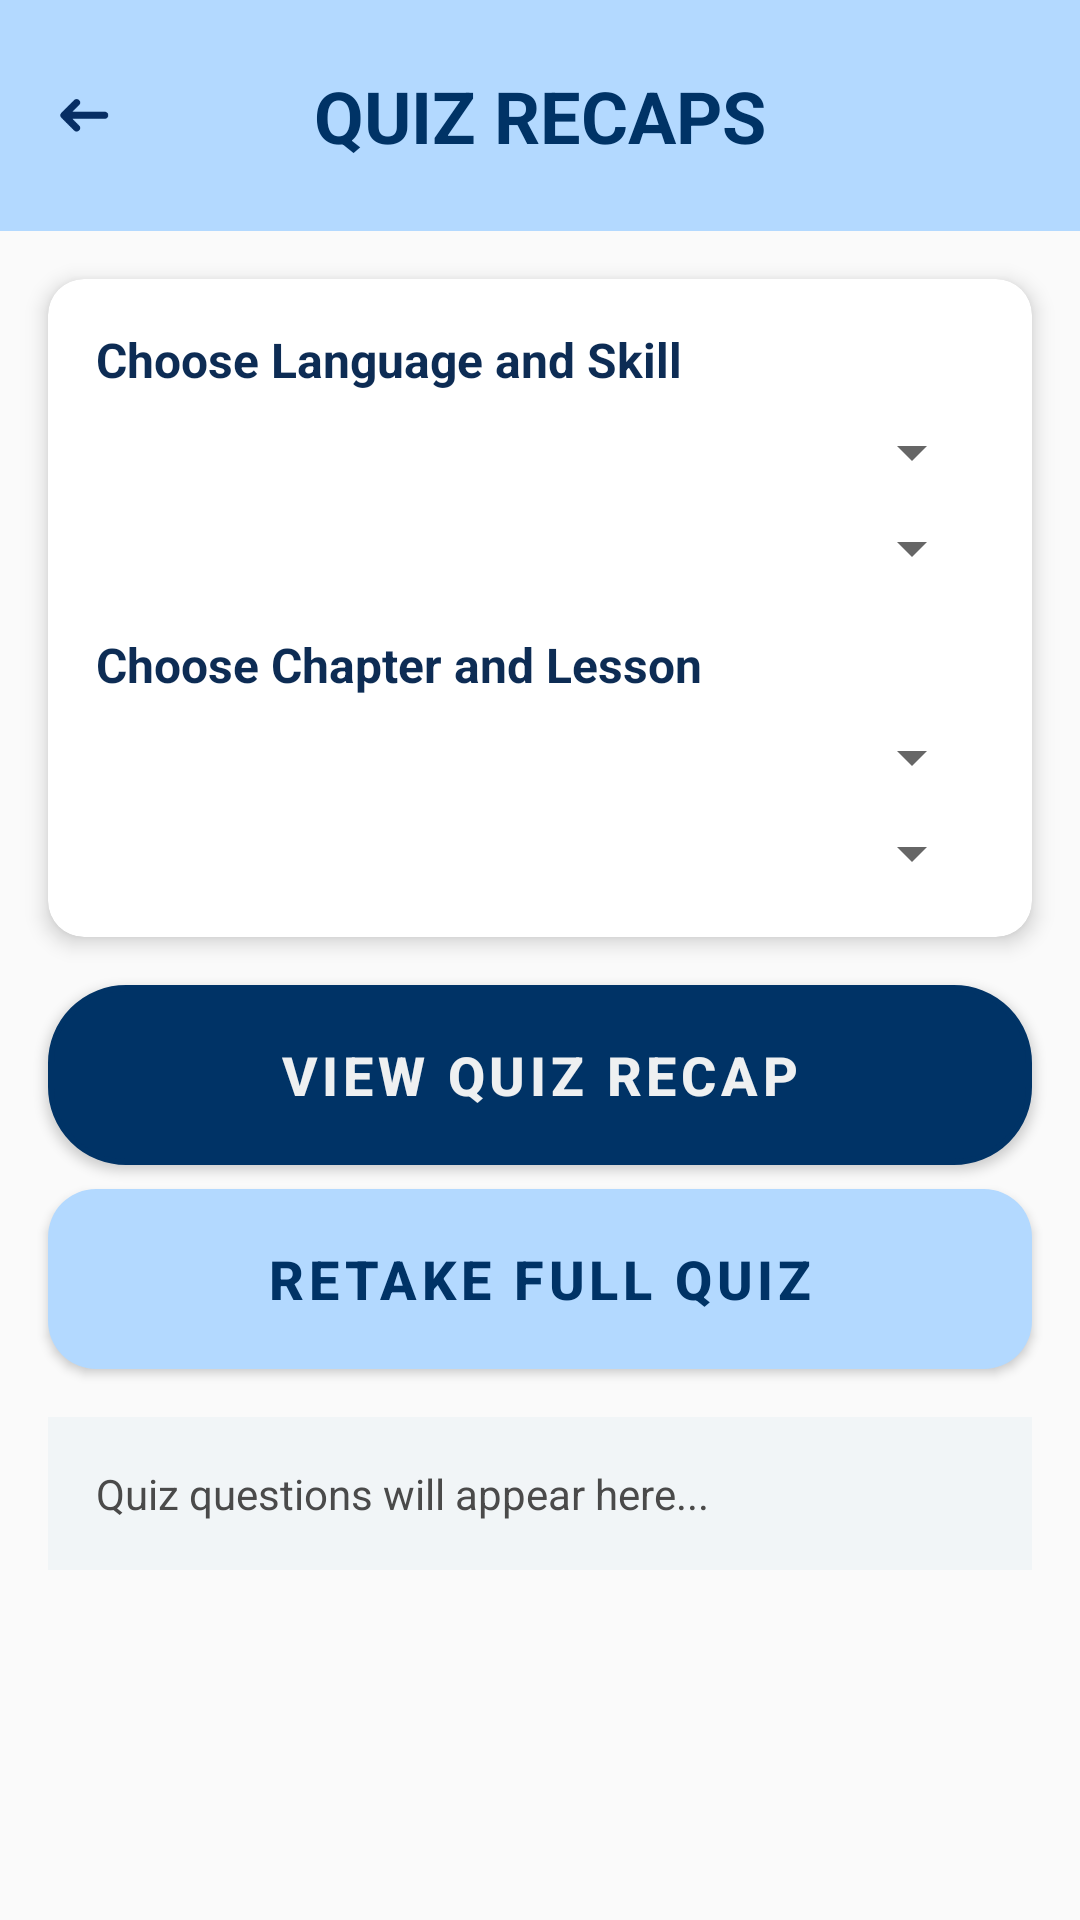

Locate icon controls on the screen. Image size 1080 x 1920, boxes as (x1, y1, x2, y2).
Back: (60, 99, 108, 132)
